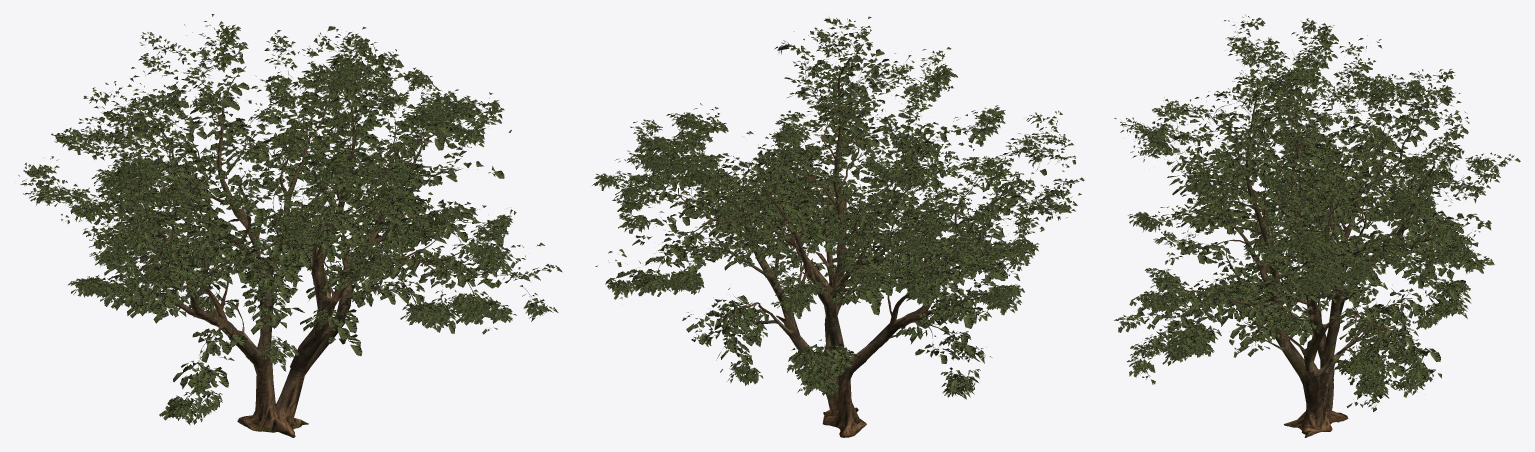
File: jacaranda_tree.glb
3 views of the same model, side by side, from view 1: azimuth 30°, elevation 25°; view 2: azimuth 150°, elevation 25°; view 3: azimuth 270°, elevation 25° (orthographic). The views are drawn at different scales.
Parts seen in each view (by area): view 1: jacaranda_tree_LOD0; view 2: jacaranda_tree_LOD0; view 3: jacaranda_tree_LOD0.
Boxes of the visible parts, x1=… form: jacaranda_tree_LOD0: x1=18, y1=14, x2=562, y2=437; jacaranda_tree_LOD0: x1=592, y1=16, x2=1084, y2=437; jacaranda_tree_LOD0: x1=1114, y1=15, x2=1520, y2=437.
Bounding box in the file's own units: 24.16 × 19.33 × 19.05.
Materials: 3 (3 with a texture image).
